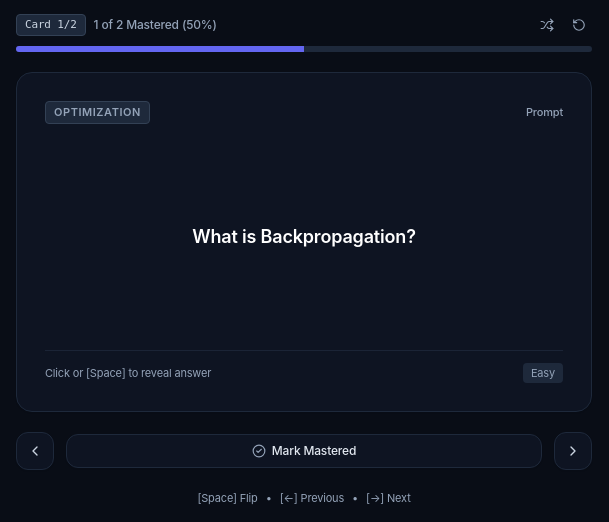
Test: FlashcardsViewer Component › navigates to next card
This screenshot has width=609, height=522.
Click the button titled "Next (Right Arrow)".
click(573, 451)  # box [554, 432, 592, 470]
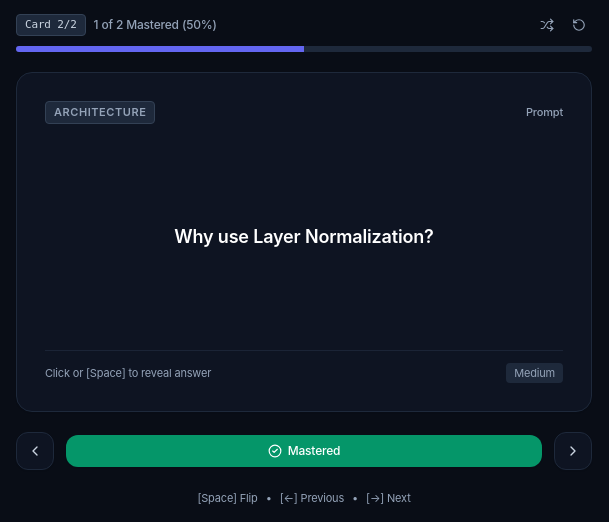
Check: the heading "Why use Layer Normalization?" is shown, box [174, 226, 434, 246]
